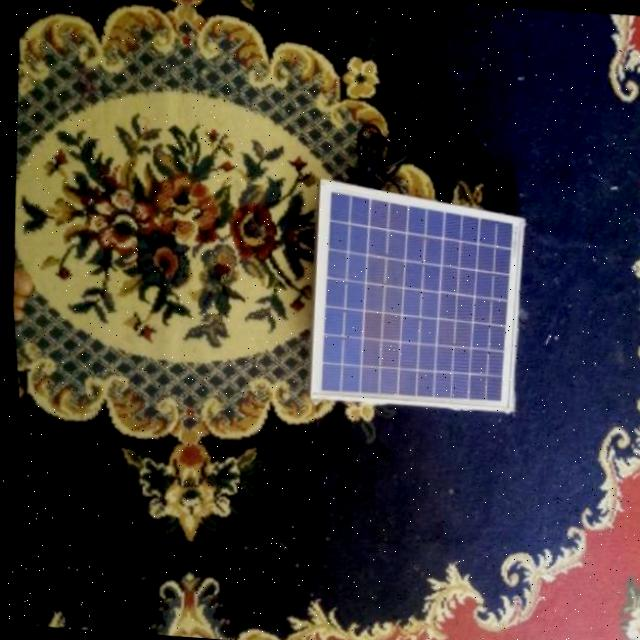Normal Solar Panel: (294, 176, 536, 413)
